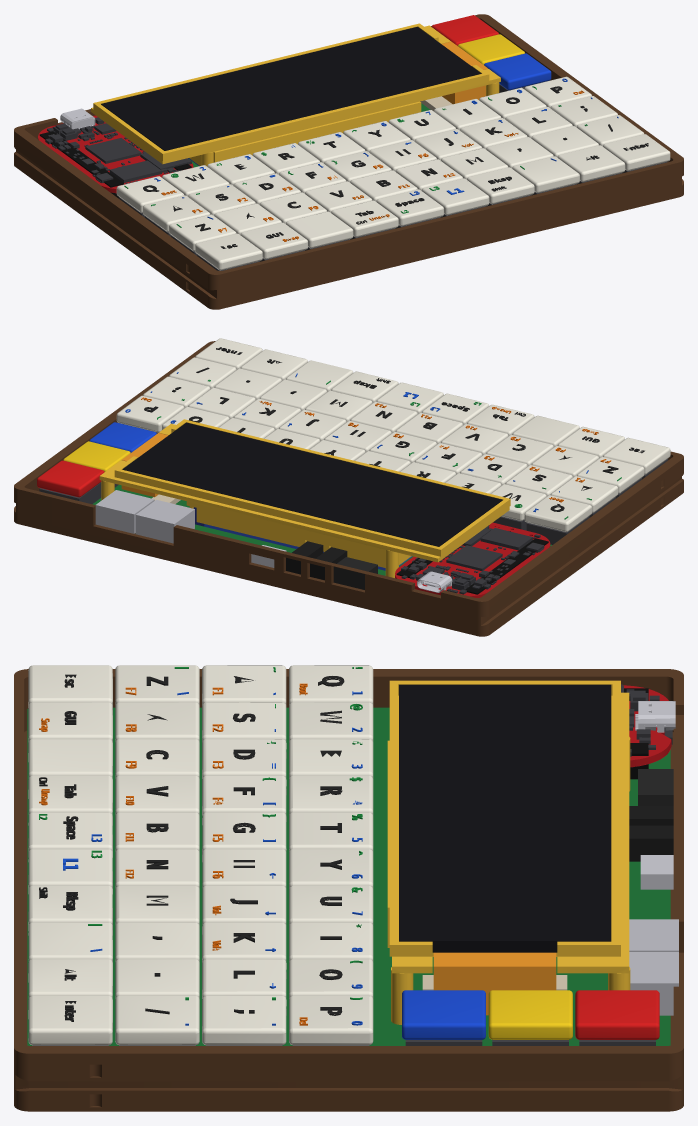
The model's file is open_walnut.glb.
3 renders of one model, top to bottom at view 1: azimuth 30°, elevation 25°; view 2: azimuth 150°, elevation 25°; view 3: azimuth 270°, elevation 25°, orthographic. The views are drawn at different scales.
Parts seen in each view (by area): view 1: Internals, Tray; view 2: Internals, Tray; view 3: Internals, Tray.
Boxes of the visible parts, x1,y1,x2,y2 form: Internals: [38, 15, 670, 270]; Tray: [14, 14, 683, 309]; Internals: [37, 338, 670, 597]; Tray: [14, 341, 683, 636]; Internals: [27, 665, 678, 1045]; Tray: [14, 669, 683, 1111].
Size of the model in its own units: 0.1782 by 0.0211 by 0.1312.
